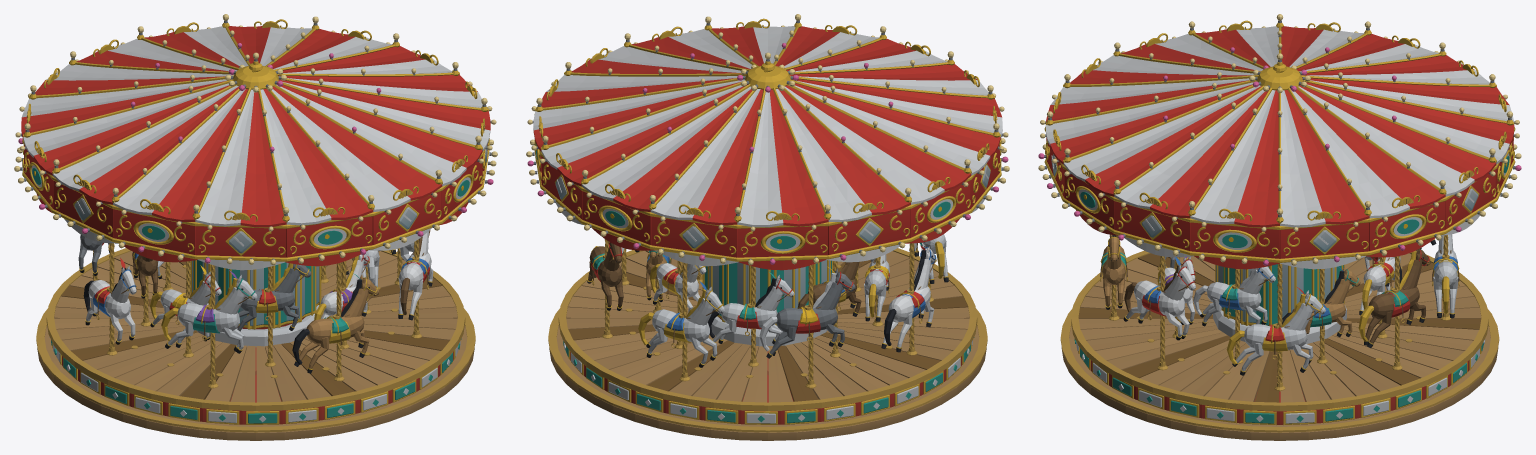
The model's file is gallopers-carousel.glb.
3 views of the same model, side by side, from view 1: azimuth 30°, elevation 25°; view 2: azimuth 150°, elevation 25°; view 3: azimuth 270°, elevation 25° (orthographic).
Parts seen in each view (by area): view 1: gallopers_carousel; view 2: gallopers_carousel; view 3: gallopers_carousel.
Part boxes in pixels (x1,y1,x2,y2): gallopers_carousel: [14, 14, 497, 440]; gallopers_carousel: [526, 14, 1009, 440]; gallopers_carousel: [1038, 14, 1521, 440].
Bounding box in the file's own units: 6.64 × 4.48 × 6.64.
